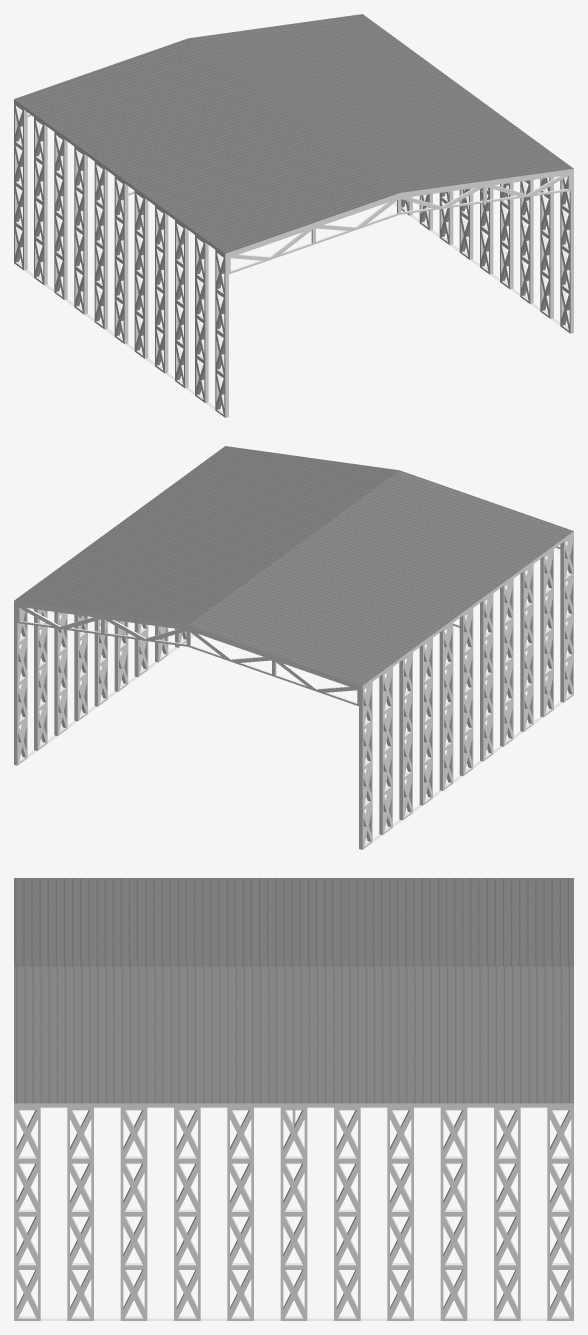
File: hangar.gltf
3 views of the same model, one above another, from view 1: azimuth 30°, elevation 25°; view 2: azimuth 150°, elevation 25°; view 3: azimuth 270°, elevation 25° (orthographic). The views are drawn at different scales.
Parts seen in each view (by area): view 1: node2, node1; view 2: node2, node1; view 3: node2, node1.
Boxes of the visible parts, bbox=[...] form: node2: bbox=[14, 14, 573, 253]; node1: bbox=[14, 99, 573, 417]; node2: bbox=[14, 446, 573, 685]; node1: bbox=[14, 531, 573, 849]; node2: bbox=[14, 878, 573, 1103]; node1: bbox=[14, 1103, 573, 1320].
Size of the model in its own units: 20 by 10 by 21.
